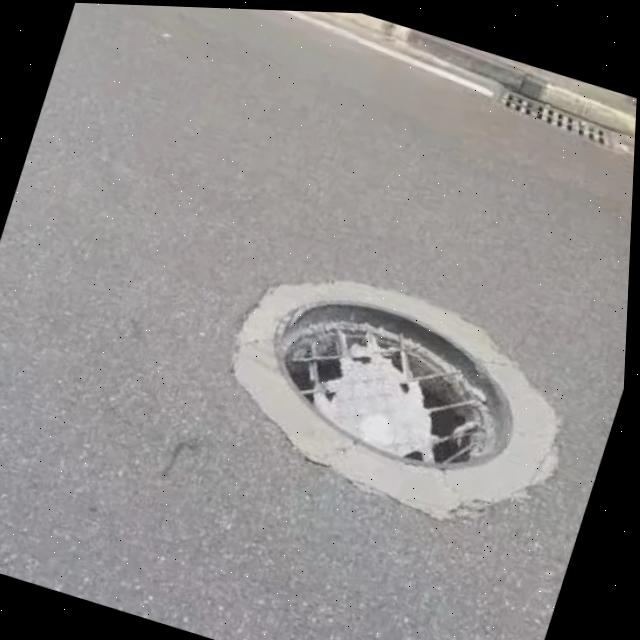manhole: (235, 250, 567, 500)
